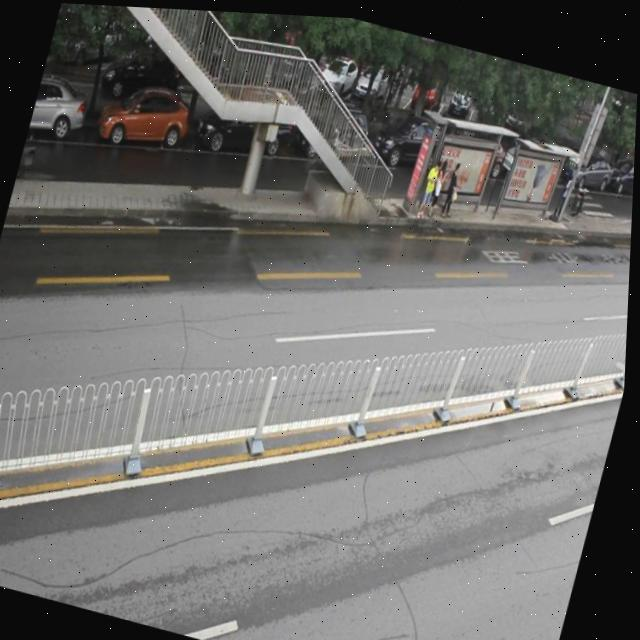car: (194, 74, 300, 163), (94, 73, 198, 161), (293, 93, 374, 167), (375, 102, 456, 175), (27, 72, 93, 148)
